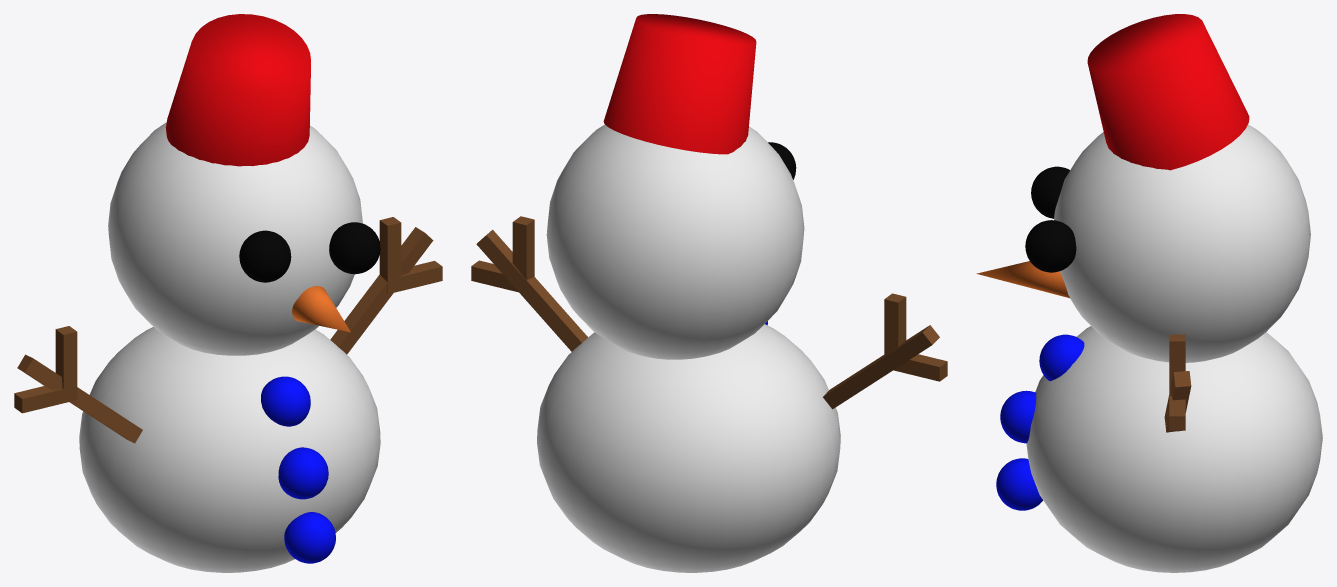
3 views of the same model, side by side, from view 1: azimuth 30°, elevation 25°; view 2: azimuth 150°, elevation 25°; view 3: azimuth 270°, elevation 25° (orthographic).
Parts seen in each view (by area): view 1: 球, 球.001, 円柱, 立方体.004, 立方体, 球.002, 球.003, 球.006, 球.004, 球.005, 円錐; view 2: 球, 球.001, 円柱, 立方体.004, 立方体; view 3: 球, 球.001, 円柱, 球.003, 立方体.004, 球.006, 円錐, 球.005, 球.004, 球.002.
Boxes of the visible parts, x1,y1,x2,y2 form: 球: [79, 327, 380, 572]; 球.001: [108, 122, 362, 355]; 円柱: [165, 14, 310, 166]; 立方体.004: [330, 217, 442, 354]; 立方体: [14, 326, 142, 443]; 球.002: [239, 230, 291, 282]; 球.003: [329, 222, 380, 274]; 球.006: [284, 512, 335, 563]; 球.004: [278, 447, 328, 499]; 球.005: [261, 376, 310, 426]; 円錐: [292, 286, 350, 332]; 球: [537, 324, 840, 572]; 球.001: [546, 124, 804, 359]; 円柱: [603, 14, 756, 154]; 立方体.004: [471, 216, 587, 351]; 立方体: [823, 293, 947, 409]; 球: [1026, 326, 1322, 572]; 球.001: [1054, 124, 1310, 362]; 円柱: [1087, 14, 1249, 170]; 球.003: [1025, 220, 1076, 272]; 立方体.004: [1164, 334, 1191, 432]; 球.006: [996, 458, 1042, 510]; 円錐: [976, 261, 1069, 298]; 球.005: [1039, 334, 1084, 380]; 球.004: [1000, 390, 1036, 443]; 球.002: [1031, 166, 1069, 218].
Size of the model in its own units: 0.9734 by 1.11 by 0.654.
